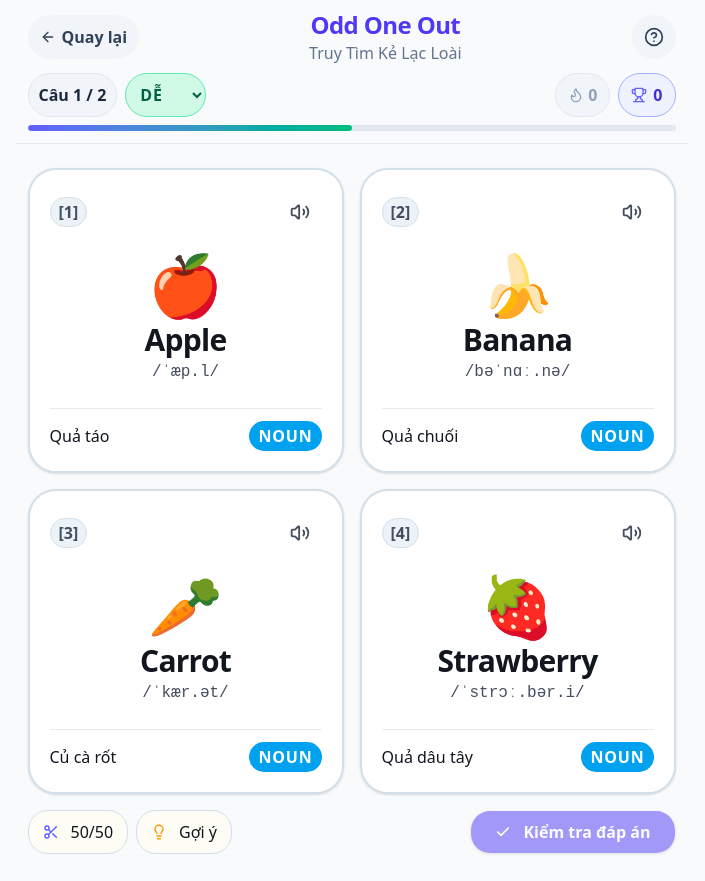
Test: OddOneOutPage Integration Suite › toggles theme clue, reveals clue content, and plays clue sound
The width and height of the screenshot is (705, 881).
Step 1. Click the button with test id "theme-clue-btn" → [184, 832], box [136, 810, 232, 854]
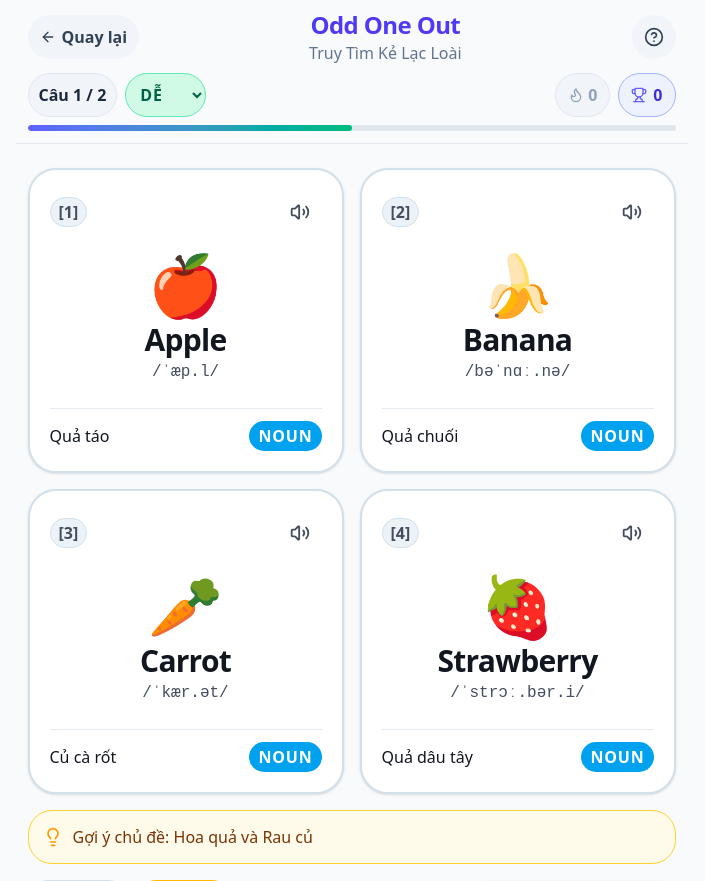
Expected: the element with test id "theme-clue-content" is shown, [28, 810, 676, 864]
Expected: the text "Gợi ý chủ đề: Hoa quả và Rau củ" is shown, [72, 825, 313, 849]
